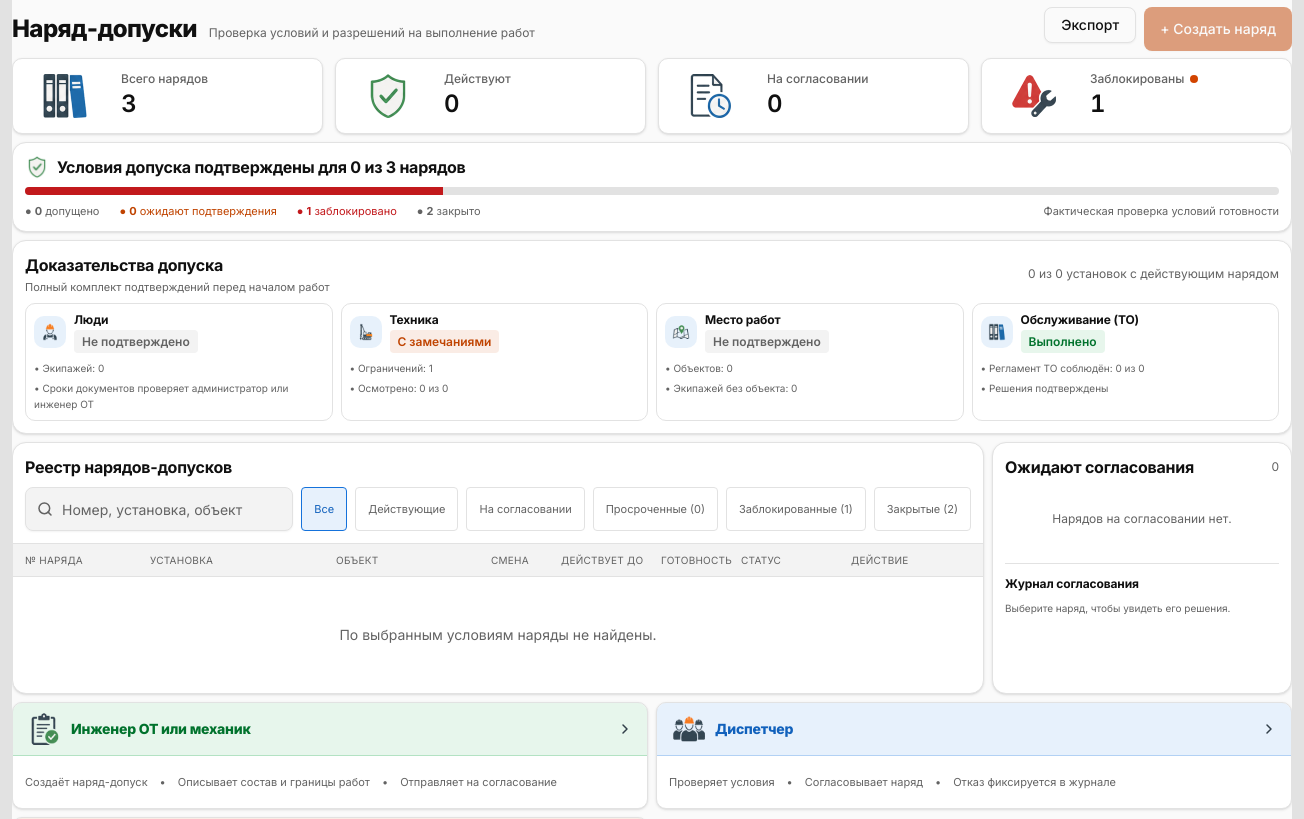
Test: закрытие наряда › separates closed history from blocked and uses neutral closure labels
This screenshot has width=1304, height=819.
Expected: the button "Заблокированы 1" is shown, [981, 58, 1292, 134]
Click the button "Закрытые (2)". click: (922, 509)
box: [874, 487, 971, 531]
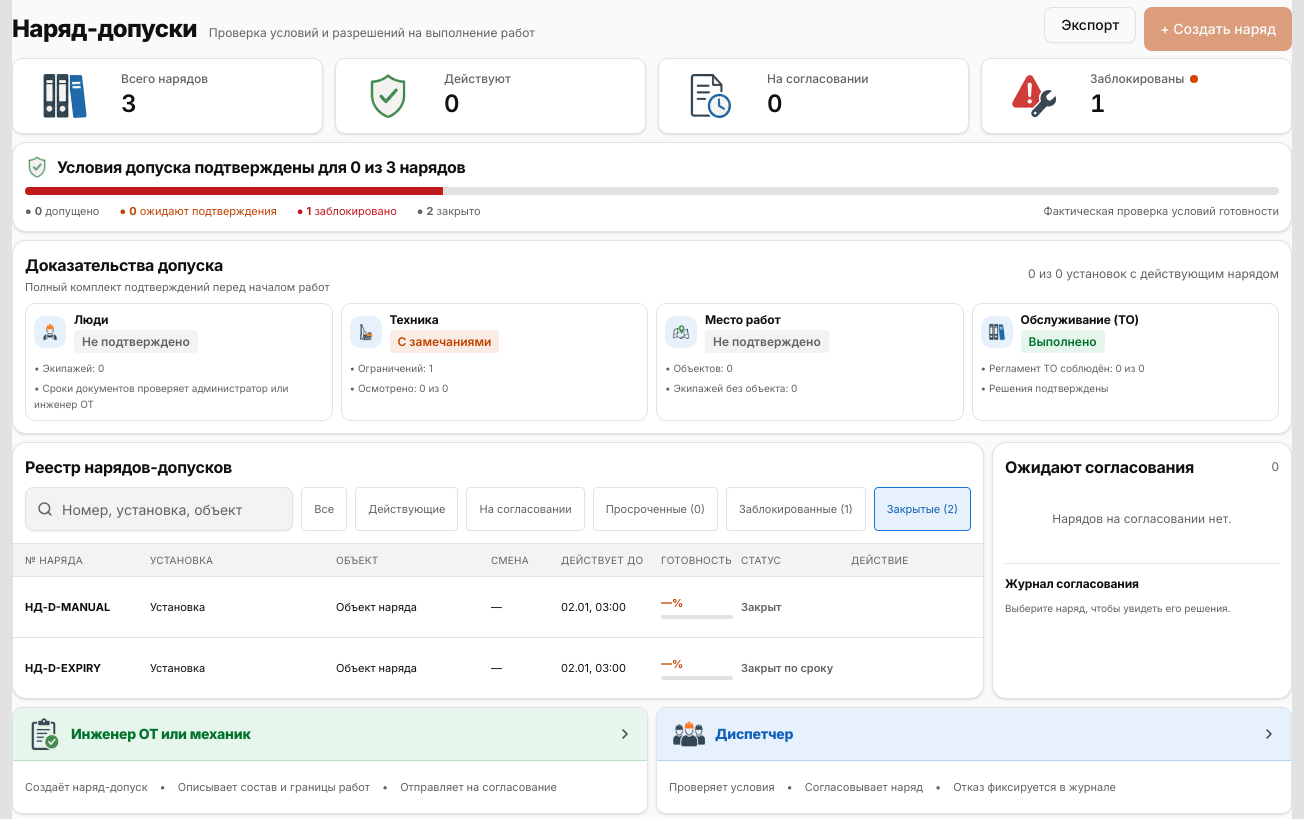
Expected: the text "Закрыт" is shown 2 times
Expected: the text "Закрыт по сроку" is shown 2 times
